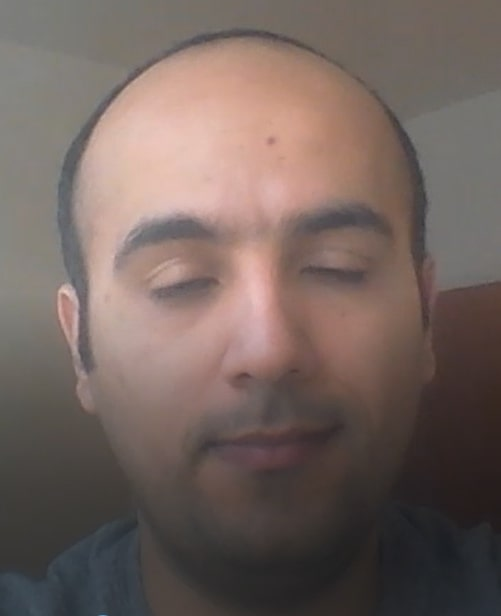Sleeping: (118, 207, 404, 326)
